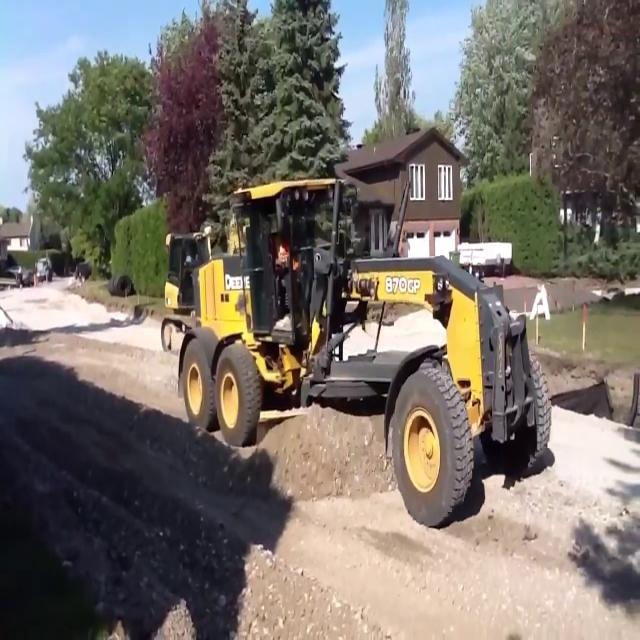buldozerpayloadergrader: (180, 177, 550, 528)
